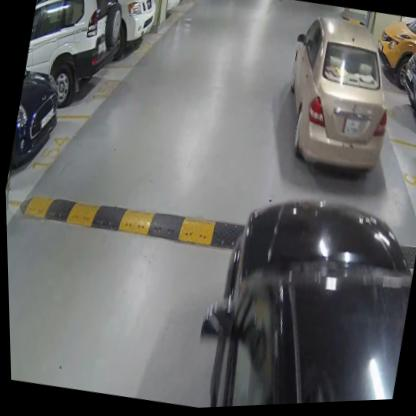np: (340, 117, 362, 143)
